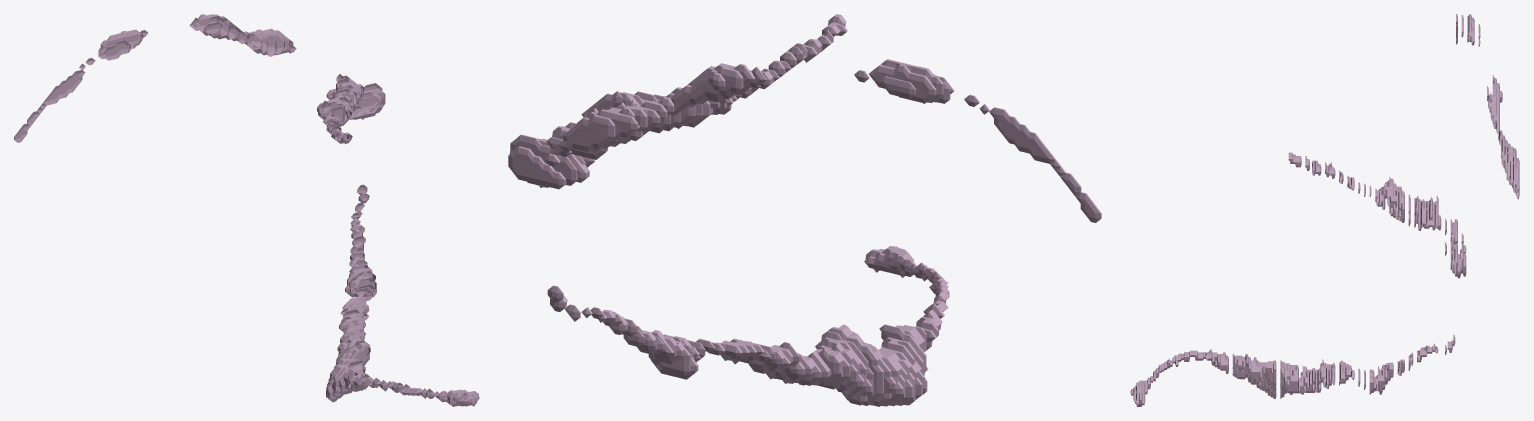
The model's file is SVV_RIPR.gltf.
The picture shows the model from 3 angles, left to right: view 1: azimuth 30°, elevation 25°; view 2: azimuth 150°, elevation 25°; view 3: azimuth 270°, elevation 25°; orthographic projection. The views are drawn at different scales.
Parts seen in each view (by area): view 1: RIPR; view 2: RIPR; view 3: RIPR.
Boxes of the visible parts, x1,y1,x2,y2 form: RIPR: [14, 14, 479, 406]; RIPR: [508, 14, 1101, 406]; RIPR: [1130, 14, 1519, 406].
Bounding box in the file's own units: 58908 × 48145 × 53526.
